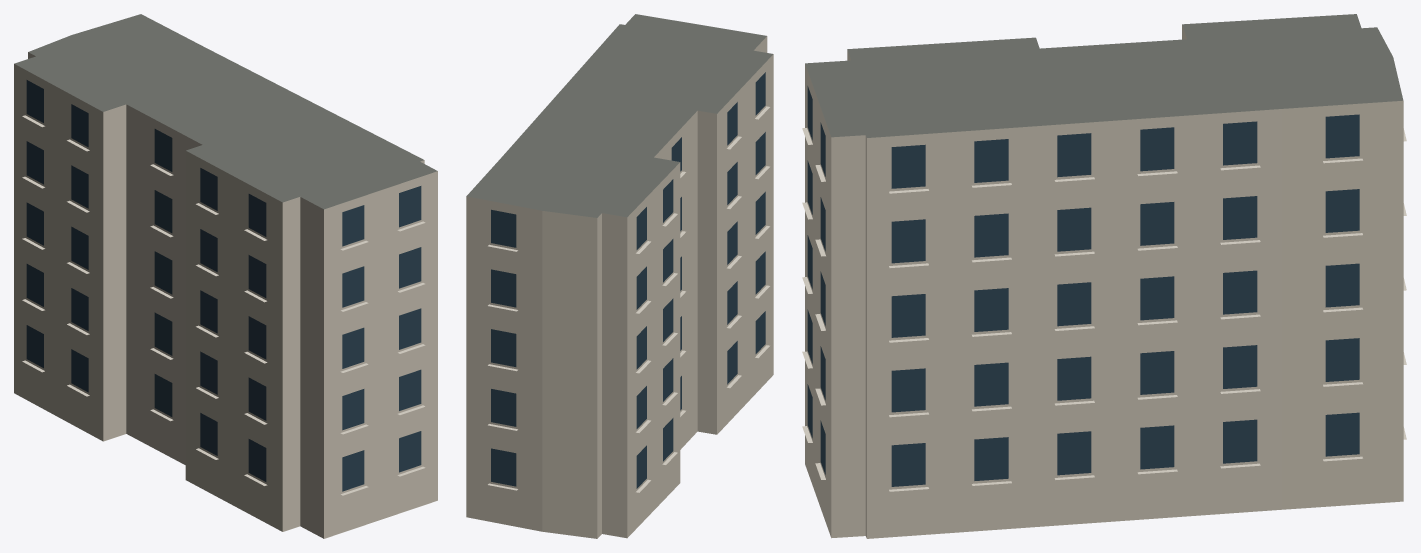
3 renders of one model, left to right at view 1: azimuth 30°, elevation 25°; view 2: azimuth 150°, elevation 25°; view 3: azimuth 270°, elevation 25°, orthographic. The views are drawn at different scales.
Visible parts, largest first — view 1: Footprint 0, Inferred window bays, Window sills; view 2: Footprint 0, Inferred window bays, Window sills; view 3: Footprint 0, Inferred window bays, Window sills.
Part boxes in pixels (box(x1,y1,x2,y2)): Footprint 0: box(14, 14, 437, 538); Inferred window bays: box(26, 80, 421, 491); Window sills: box(22, 115, 425, 495); Footprint 0: box(466, 14, 773, 538); Inferred window bays: box(491, 72, 765, 488); Window sills: box(488, 106, 769, 492); Footprint 0: box(805, 14, 1403, 538); Inferred window bays: box(807, 86, 1359, 486); Window sills: box(802, 128, 1406, 491).
Size of the model in its own units: 10.75 by 15.86 by 21.69.
